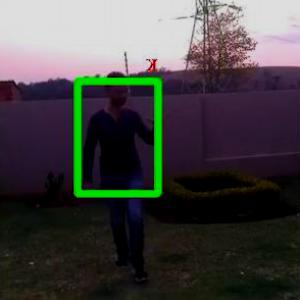follow_hand: (141, 100, 172, 127)
